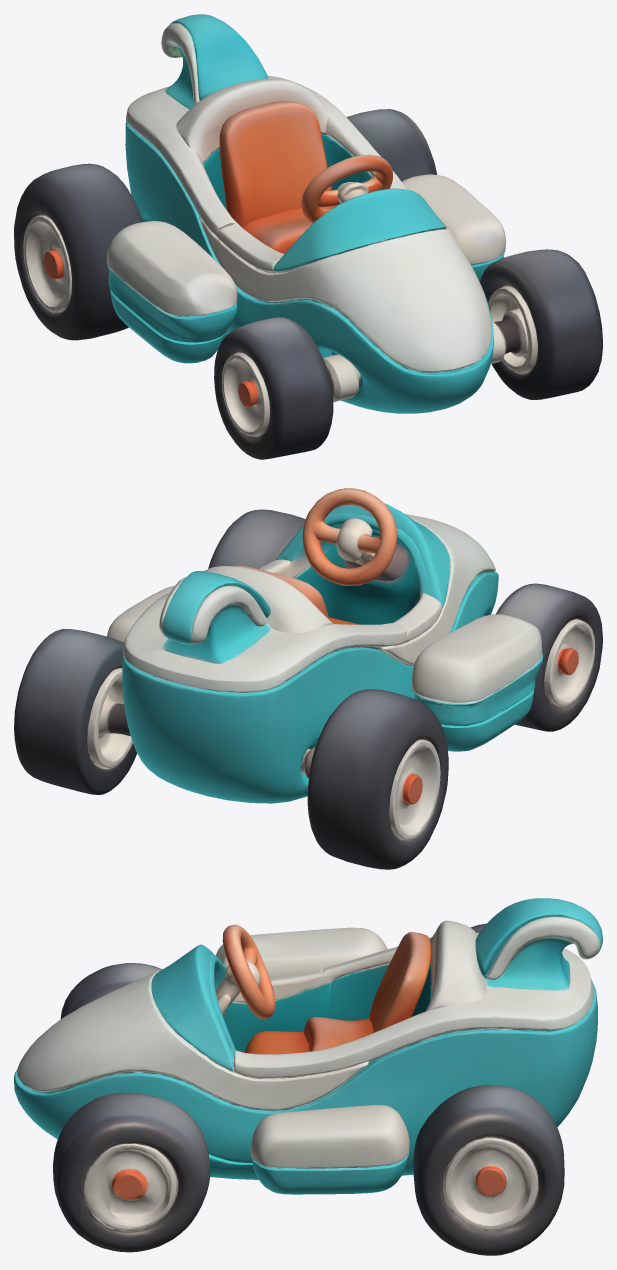
File: reef-cartoon-decimated.glb
3 renders of one model, top to bottom at view 1: azimuth 30°, elevation 25°; view 2: azimuth 150°, elevation 25°; view 3: azimuth 270°, elevation 25°, orthographic. The views are drawn at different scales.
Visible parts, largest first — view 1: model; view 2: model; view 3: model.
Boxes of the visible parts, x1,y1,x2,y2 form: model: (14,14,602,459); model: (14,488,602,869); model: (14,898,602,1255).
Bounding box in the file's own units: 1.42 × 0.9561 × 1.9.
1 material, 1 textured.
